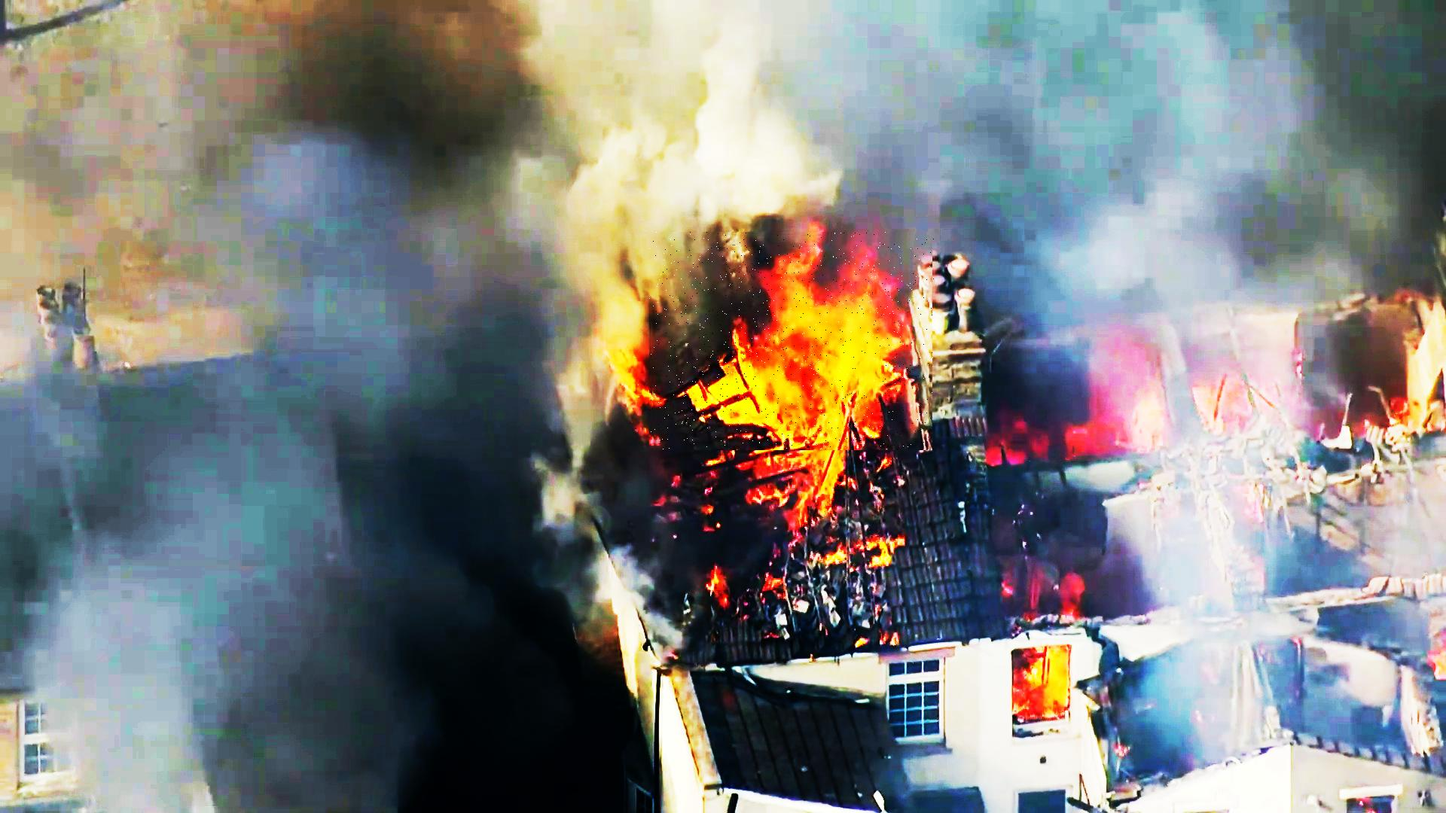fire: (650, 232, 935, 450)
